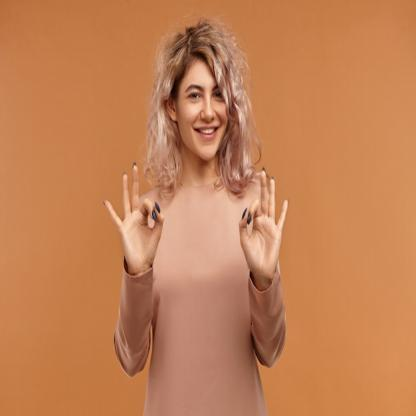stop: (102, 158, 166, 279)
